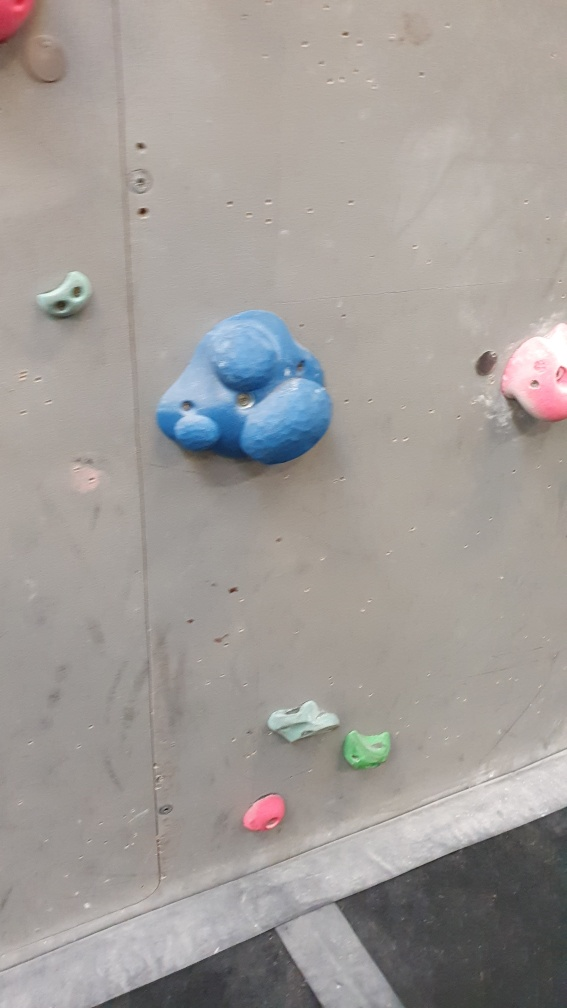Sloper: (156, 303, 336, 469)
